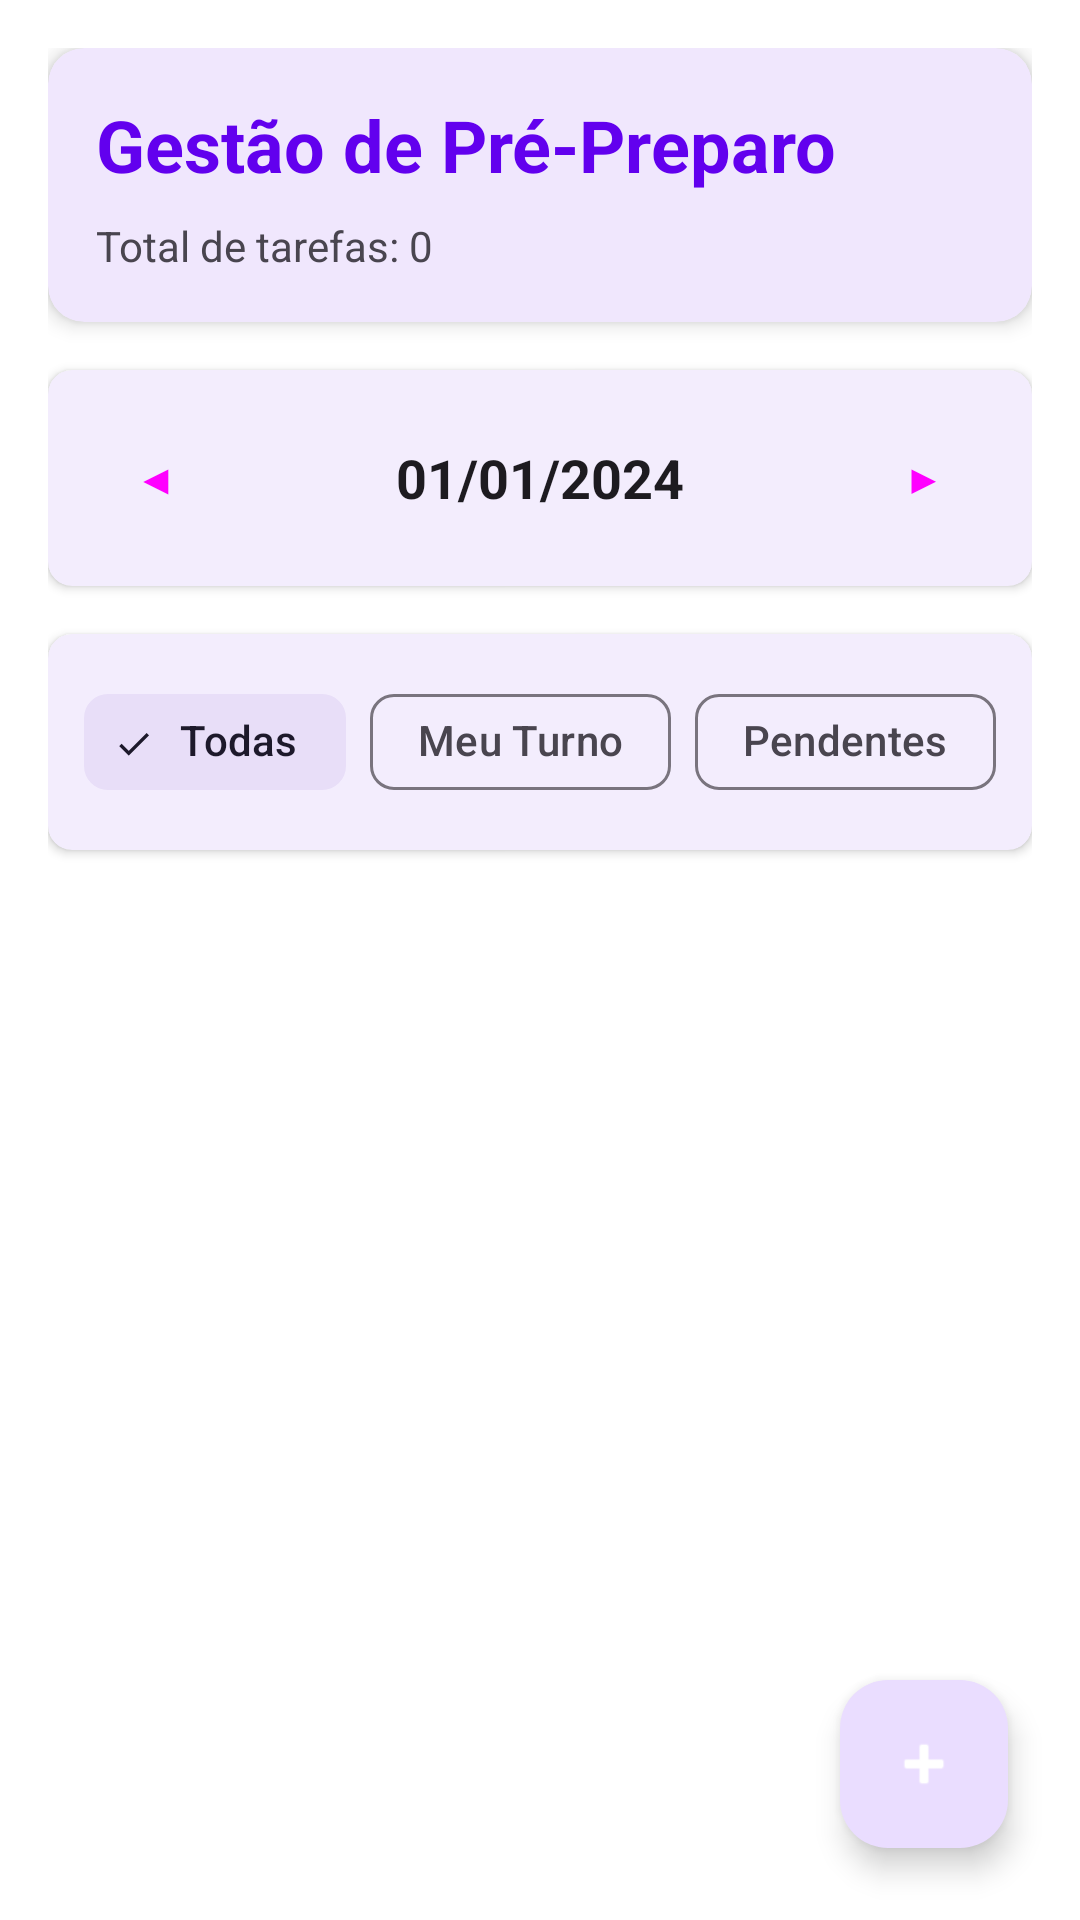

Icons on this 1080 × 1920 Android screen, each with the point to tap as (x,y):
Nova tarefa: (924,1764)
